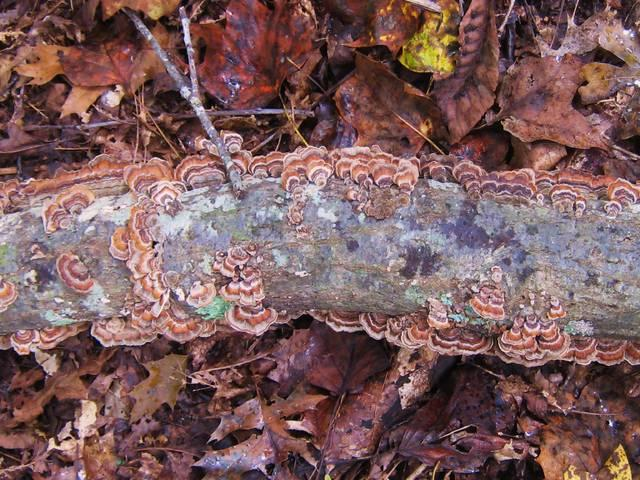Non-edible Mushroom: (1, 136, 639, 370)
